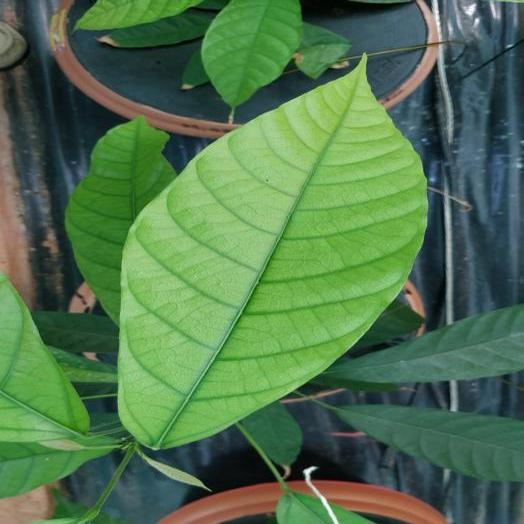Healthy Leaf: (328, 305, 523, 382), (333, 404, 523, 481), (202, 0, 301, 111)
Iron: (118, 58, 427, 448), (66, 117, 175, 323), (0, 274, 88, 442), (0, 442, 109, 497)
